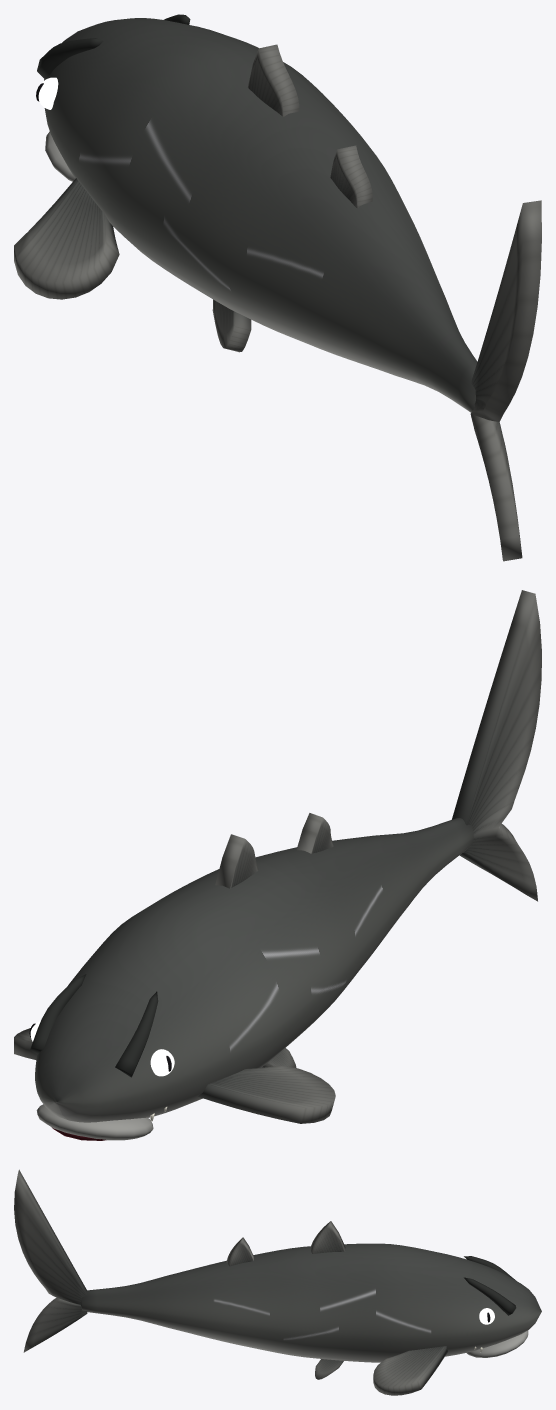
Rendered from GreenlandShark.fbx.
3 renders of one model, top to bottom at view 1: azimuth 30°, elevation 25°; view 2: azimuth 150°, elevation 25°; view 3: azimuth 270°, elevation 25°, orthographic. The views are drawn at different scales.
Parts seen in each view (by area): view 1: GreenlandShark; view 2: GreenlandShark; view 3: GreenlandShark.
Part boxes in pixels (x1,y1,x2,y2): GreenlandShark: [14, 14, 541, 561]; GreenlandShark: [14, 590, 541, 1140]; GreenlandShark: [14, 1169, 541, 1395].
Bounding box in the file's own units: 205 × 196 × 503.
Materials: 2 (1 with a texture image).
